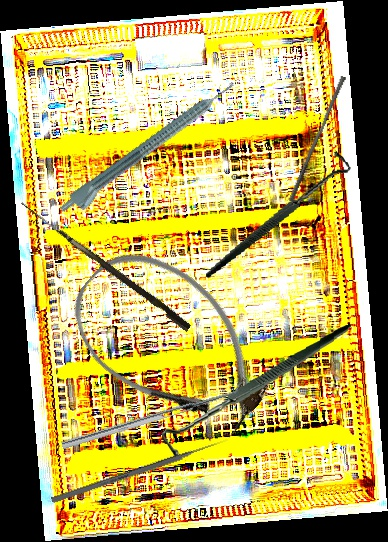Cannula: (51, 227, 293, 461)
Handpiece: (55, 77, 245, 224)
Hook Surgical: (155, 324, 359, 458), (185, 148, 367, 279), (15, 202, 194, 332)
Pusher: (50, 436, 230, 505), (288, 74, 347, 204)
Spatula Surgical: (58, 379, 245, 450)
